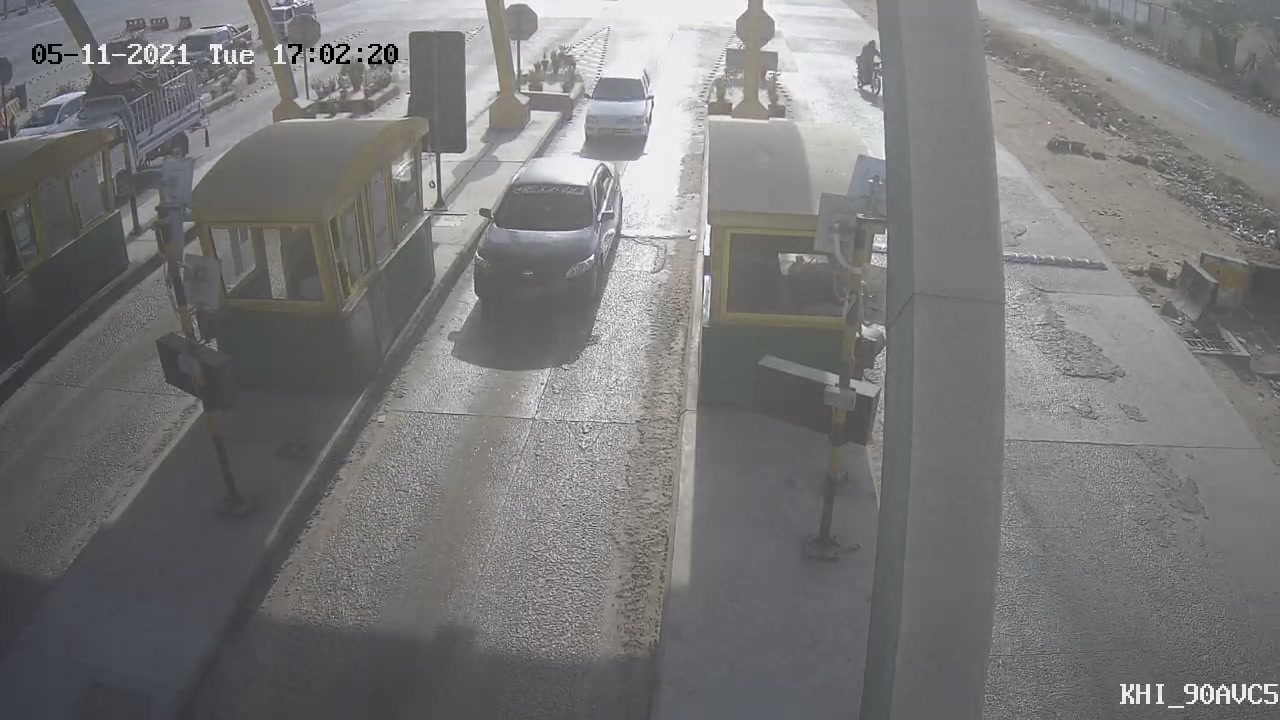F1: (452, 131, 644, 335), (568, 53, 666, 153)
